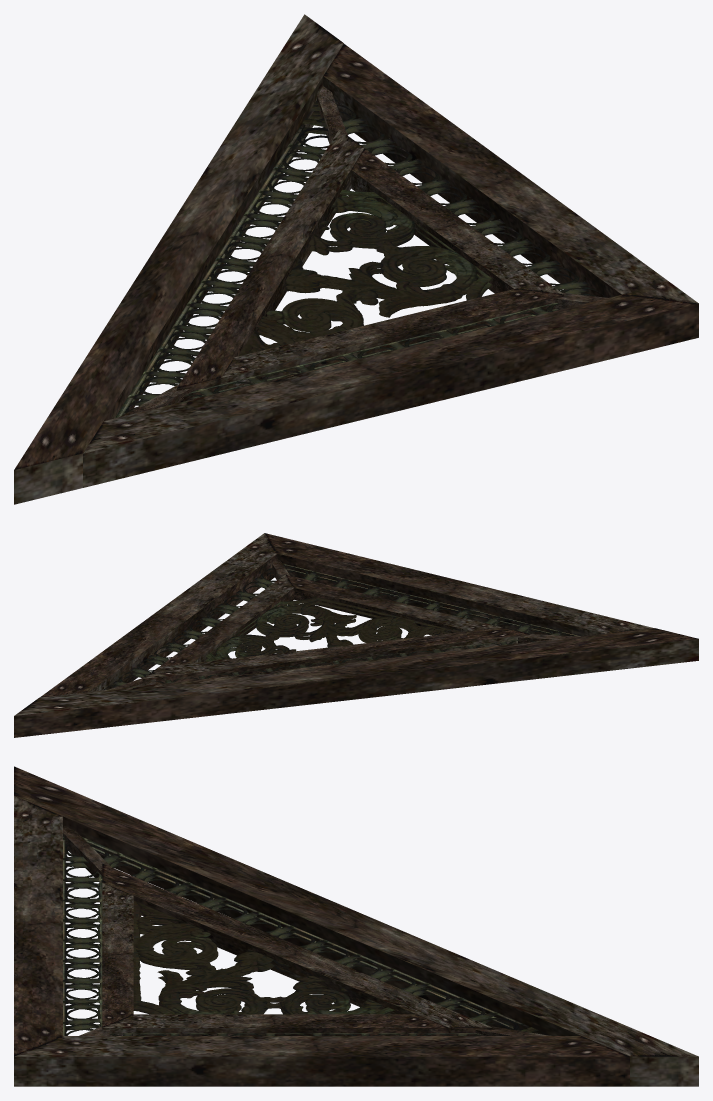
Rendered from grating_corner.DAE.
3 renders of one model, top to bottom at view 1: azimuth 30°, elevation 25°; view 2: azimuth 150°, elevation 25°; view 3: azimuth 270°, elevation 25°, orthographic. The views are drawn at different scales.
Parts seen in each view (by area): view 1: polySurface003, Object006; view 2: polySurface003, Object006; view 3: polySurface003, Object006.
Part boxes in pixels (<box>): polySurface003: <box>14,14,698,504</box>; Object006: <box>114,98,606,418</box>; polySurface003: <box>14,533,698,737</box>; Object006: <box>103,564,580,690</box>; polySurface003: <box>14,766,698,1086</box>; Object006: <box>63,837,551,1035</box>.
Size of the model in its own units: 1.4 by 0.0678 by 1.4.
